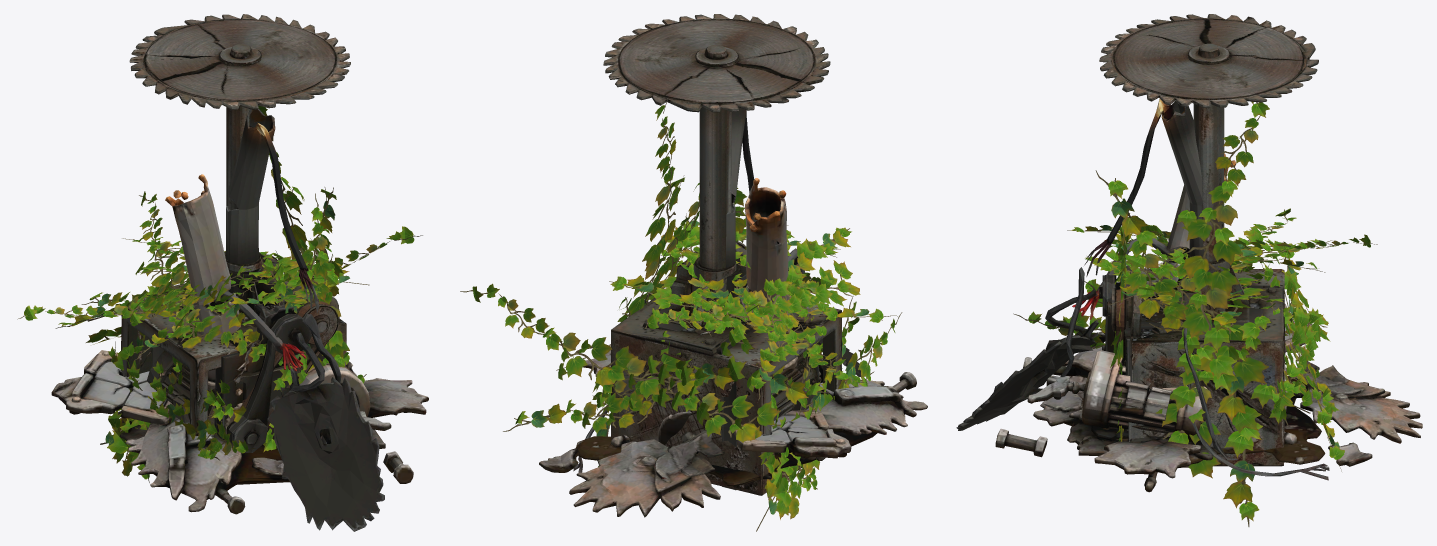
The model's file is P_Tripo04.obj.
3 renders of one model, left to right at view 1: azimuth 30°, elevation 25°; view 2: azimuth 150°, elevation 25°; view 3: azimuth 270°, elevation 25°, orthographic. The views are drawn at different scales.
Size of the model in its own units: 1.09 by 1.13 by 1.09.
13 materials, 13 textured.
